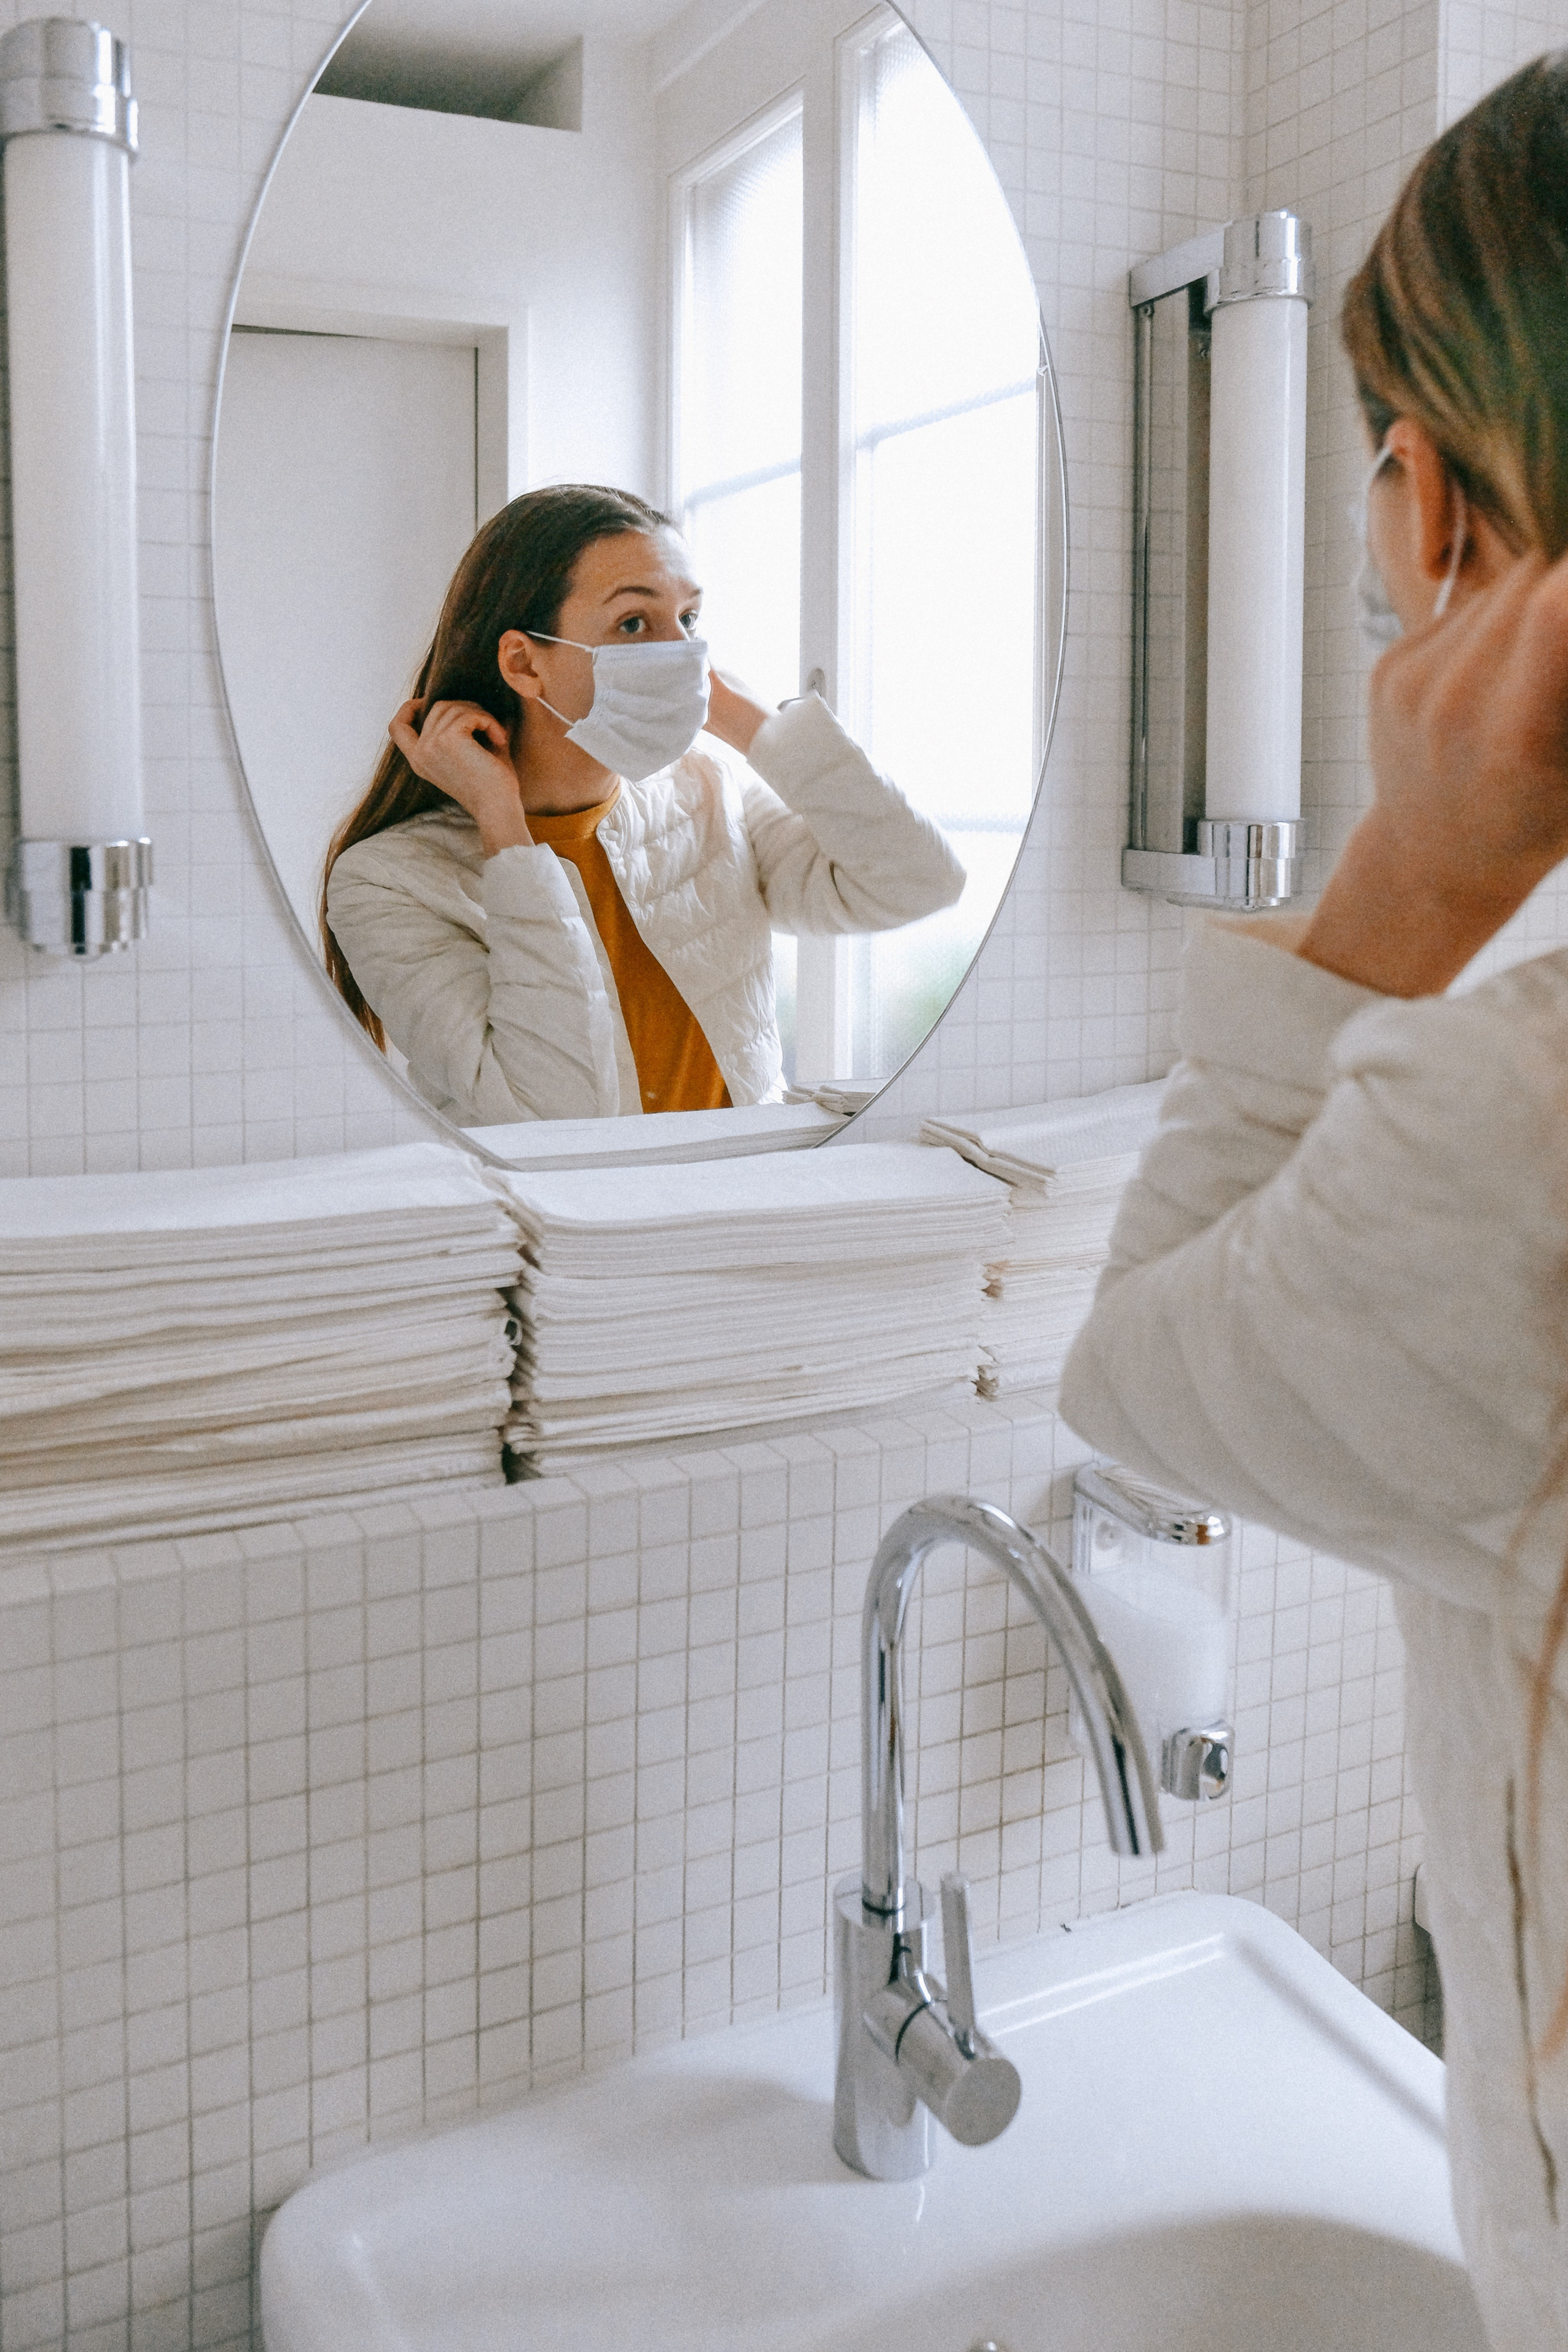face_with_mask: (443, 472, 735, 799)
